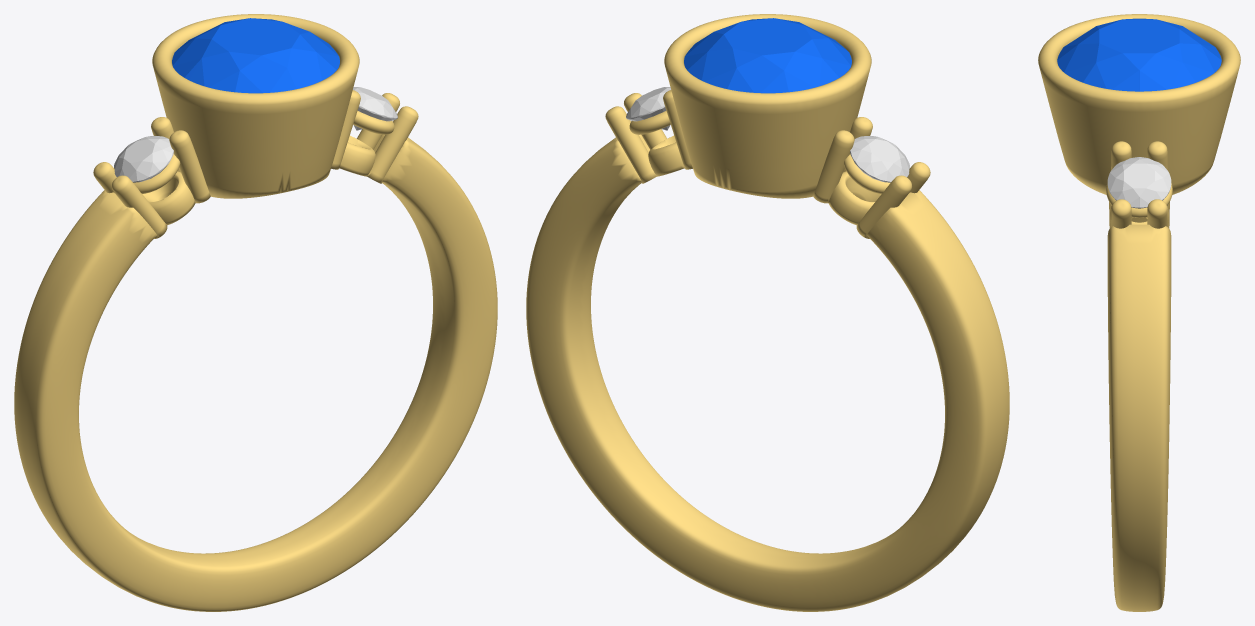
Rendered from bluesapphire-round-yellowgold-bezelset-straightband-2stone.glb.
3 renders of one model, left to right at view 1: azimuth 30°, elevation 25°; view 2: azimuth 150°, elevation 25°; view 3: azimuth 270°, elevation 25°, orthographic. The views are drawn at different scales.
Parts seen in each view (by area): view 1: metal, stone, side.001, side; view 2: metal, stone, side.001, side; view 3: metal, stone, side.
Part boxes in pixels (box(x1,y1,x2,y2)): metal: box(14, 14, 497, 611); stone: box(172, 18, 339, 93); side.001: box(114, 136, 173, 182); side: box(353, 87, 397, 130); metal: box(526, 14, 1009, 611); stone: box(684, 18, 851, 93); side.001: box(850, 136, 909, 182); side: box(626, 87, 670, 130); metal: box(1038, 14, 1240, 611); stone: box(1057, 18, 1221, 91); side: box(1107, 157, 1171, 208).
Size of the model in its own units: 20.51 by 23.81 by 7.94.
